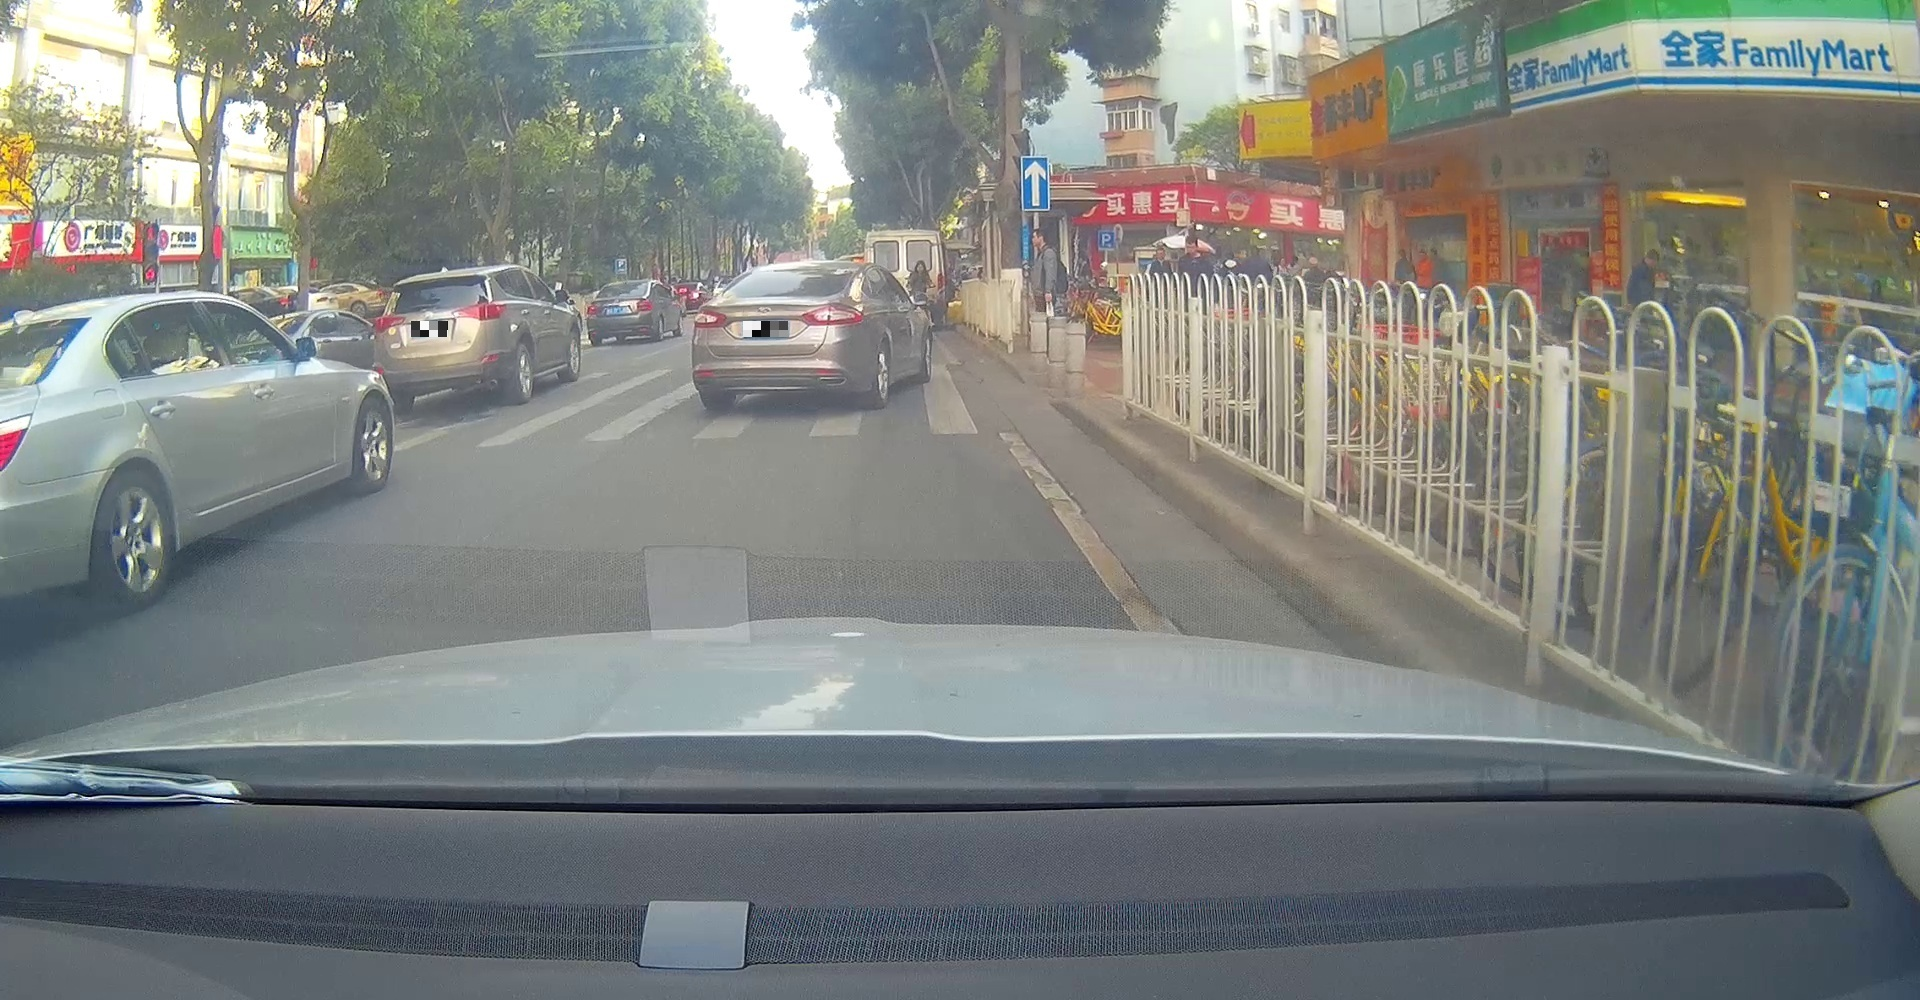L_light: (693, 308, 726, 327), (375, 316, 405, 334), (585, 305, 599, 313)
R_light: (801, 302, 863, 326), (452, 303, 505, 321), (637, 299, 651, 311)
T_light: (776, 270, 801, 275), (424, 282, 444, 286), (618, 284, 629, 287)
day-no: (691, 261, 866, 409), (372, 270, 509, 416), (585, 280, 651, 346)
plate_1: (411, 321, 448, 338)
plate_2: (743, 321, 789, 338)
